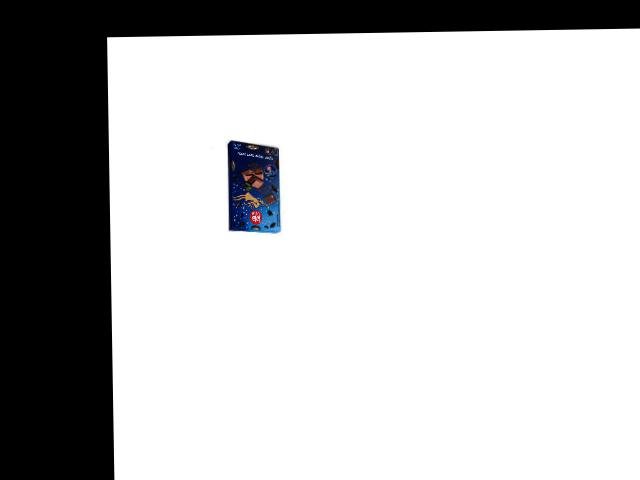chocolate: (221, 139, 287, 235)
